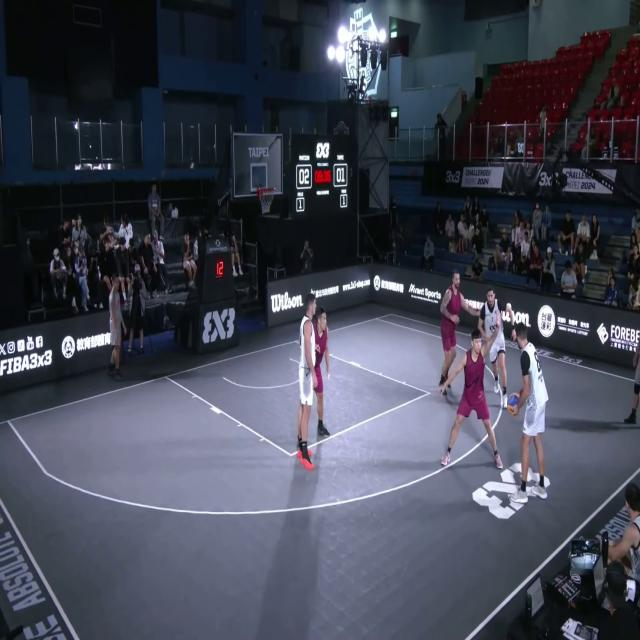ball: (507, 390, 523, 416)
hoop: (258, 184, 274, 217)
player: (434, 313, 504, 469), (510, 320, 550, 507), (474, 280, 514, 420), (438, 273, 479, 395), (298, 294, 318, 466), (309, 306, 330, 439)
